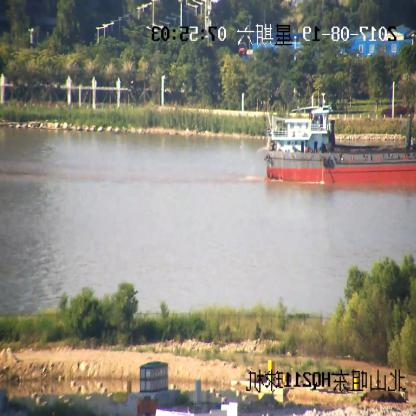Bulk Carrier: (263, 104, 416, 184)
